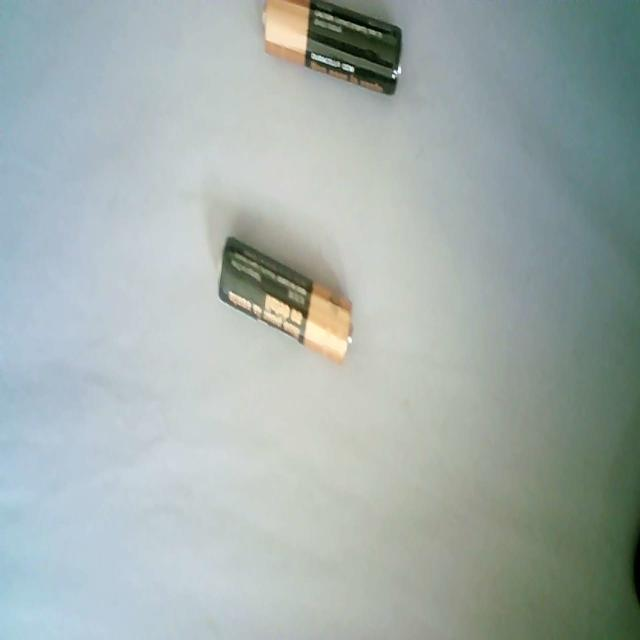AA: (218, 234, 354, 365), (261, 0, 402, 95)
